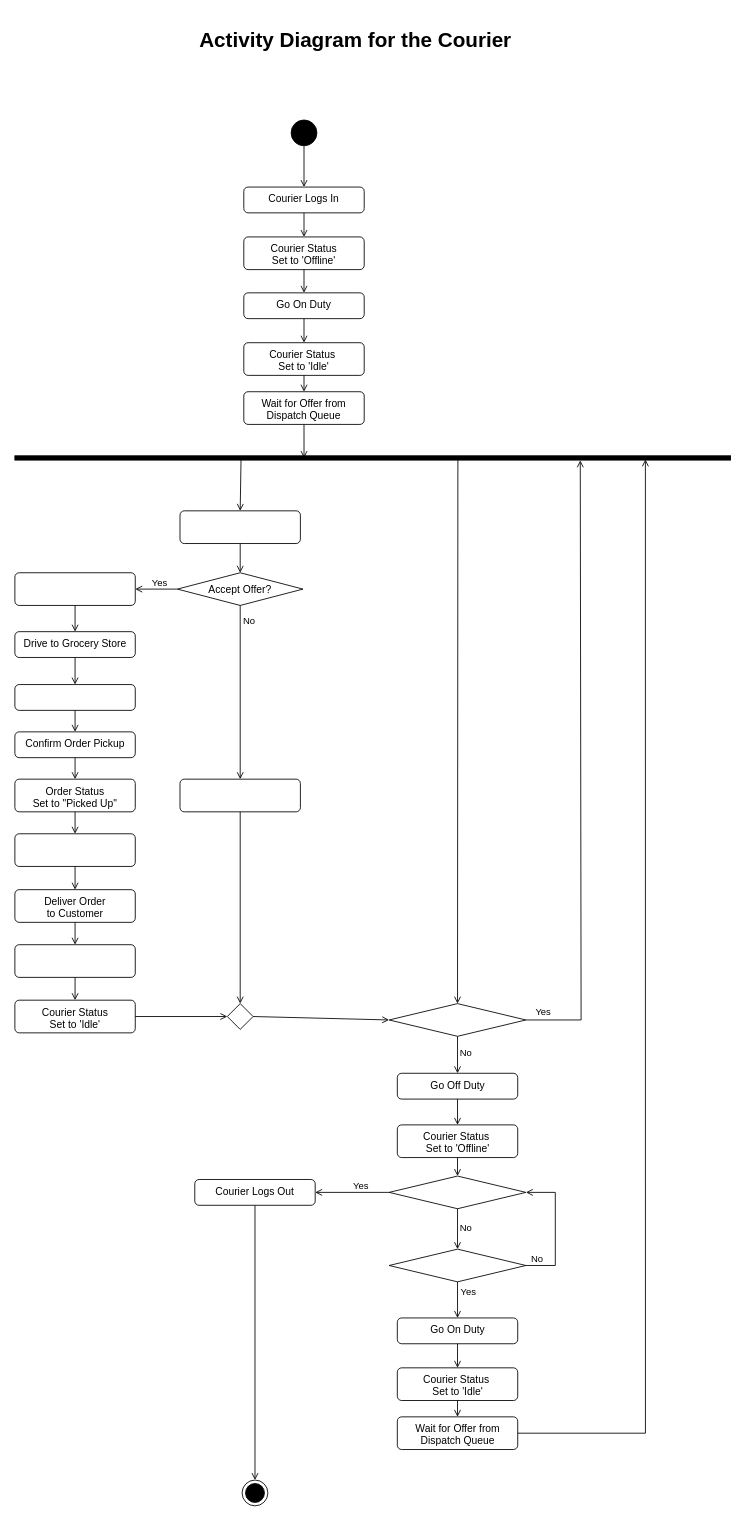
Image size: 746x1521. Some labels were removed from this diagram. The shapes that lost their labels are listed below. From the top down, each one's centre as x and y in pixels, then its label:
(x=239, y=527): Order Assignment Offered to Courier
(x=74, y=588): Courier Status Set to 'Assigned'
(x=74, y=697): Pick Up Order
(x=239, y=795): Return Order to Dispatch Queue
(x=74, y=849): Courier Status Set to 'Carrying'
(x=74, y=960): Order Status Set to "Delivered"
(x=457, y=1019): Continue Working?
(x=457, y=1192): Log Out?
(x=457, y=1265): Return On Duty?
